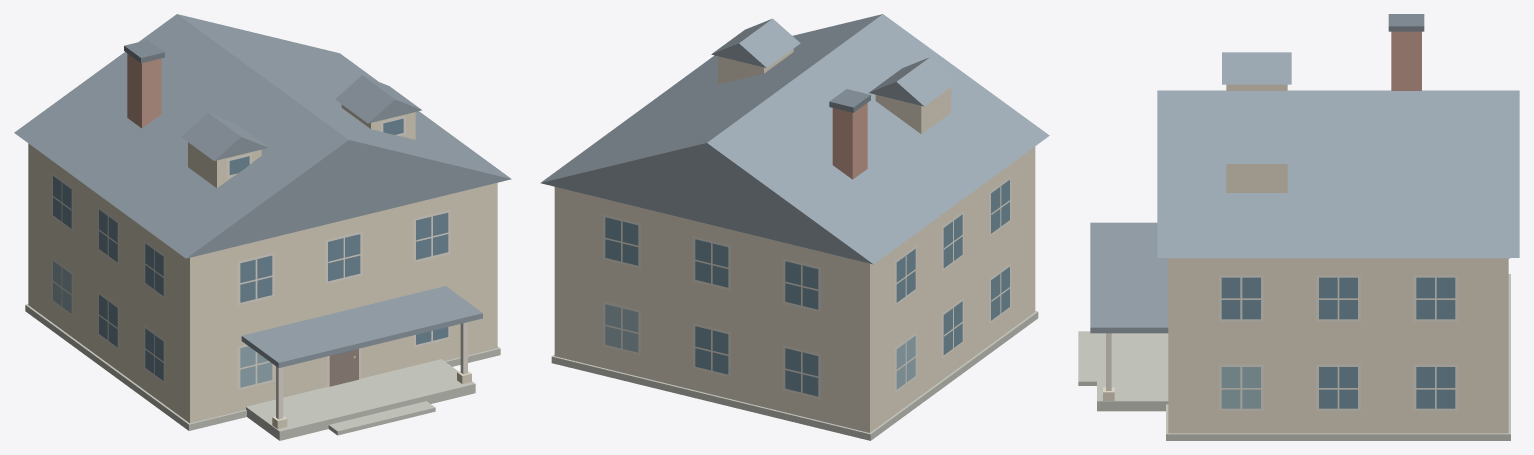
File: house-colonial-cream.glb
The picture shows the model from 3 angles, left to right: view 1: azimuth 30°, elevation 25°; view 2: azimuth 150°, elevation 25°; view 3: azimuth 270°, elevation 25°; orthographic projection. The views are drawn at different scales.
Visible parts, largest first — view 1: house-colonial-cream; view 2: house-colonial-cream; view 3: house-colonial-cream.
Boxes of the visible parts, left/top/right/bottom form: house-colonial-cream: left=14, top=14, right=511, bottom=440; house-colonial-cream: left=540, top=14, right=1049, bottom=440; house-colonial-cream: left=1078, top=14, right=1519, bottom=440.
Size of the model in its own units: 11.65 by 9.61 by 12.98.
